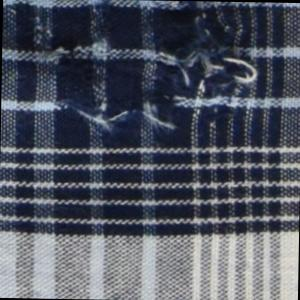Damage: (1, 1, 262, 146)
